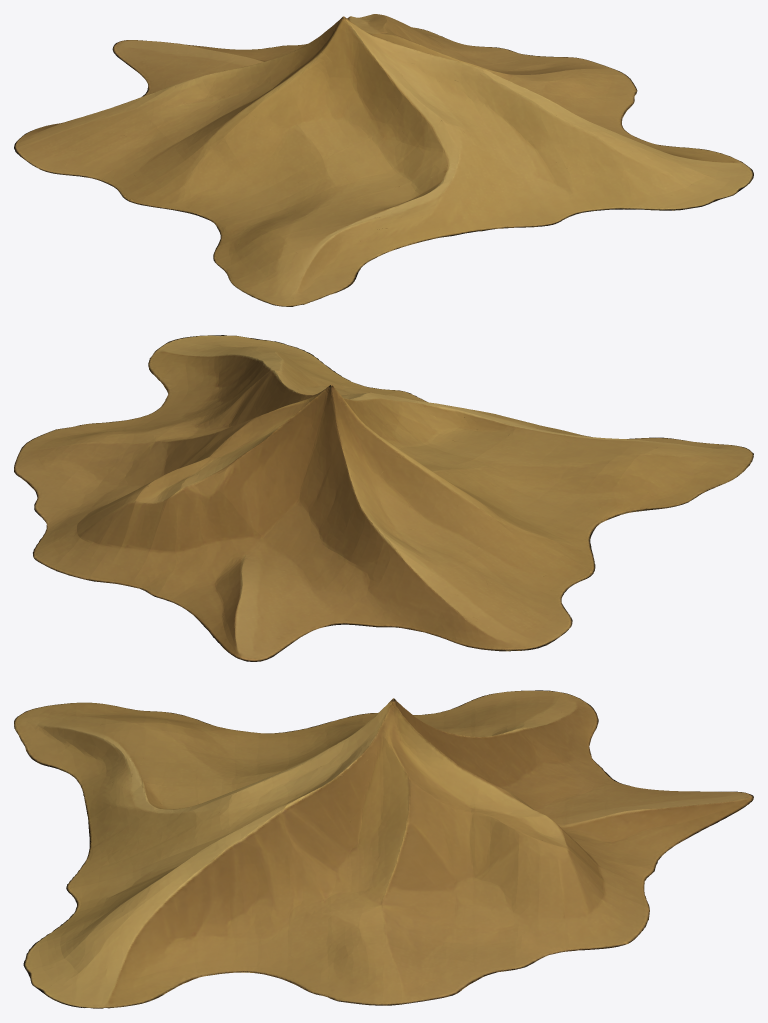
3 views of the same model, one above another, from view 1: azimuth 30°, elevation 25°; view 2: azimuth 150°, elevation 25°; view 3: azimuth 270°, elevation 25° (orthographic). The views are drawn at different scales.
Parts seen in each view (by area): view 1: world; view 2: world; view 3: world.
Boxes of the visible parts, x1,y1,x2,y2 form: world: (14, 14, 753, 306); world: (14, 335, 753, 661); world: (14, 690, 753, 1008).
Bounding box in the file's own units: 30 × 6.66 × 29.98.
Materials: 1 (1 with a texture image).
